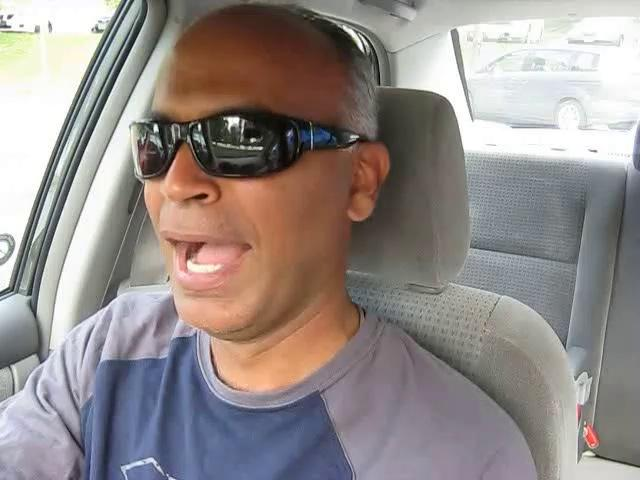yawn: (144, 218, 273, 301)
